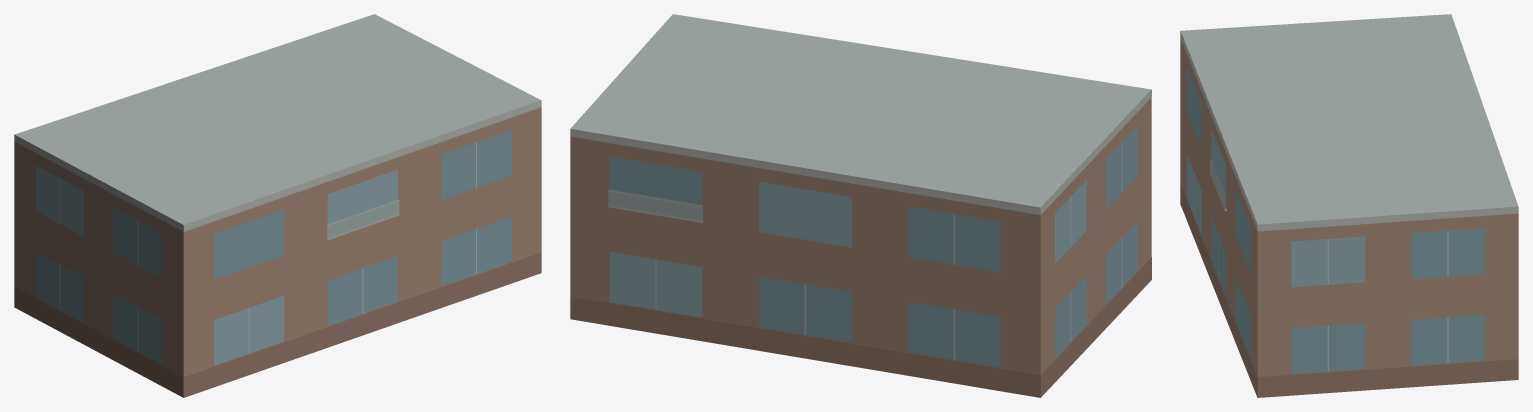
The model's file is survey-upis-32800098.glb.
The picture shows the model from 3 angles, left to right: view 1: azimuth 30°, elevation 25°; view 2: azimuth 150°, elevation 25°; view 3: azimuth 270°, elevation 25°; orthographic projection. The views are drawn at different scales.
Parts seen in each view (by area): view 1: survey-upis-32800098.tmp; view 2: survey-upis-32800098.tmp; view 3: survey-upis-32800098.tmp.
Part boxes in pixels (x1,y1,x2,y2): survey-upis-32800098.tmp: (14, 14, 541, 397); survey-upis-32800098.tmp: (570, 14, 1151, 397); survey-upis-32800098.tmp: (1180, 14, 1518, 397).
Bounding box in the file's own units: 15.92 × 6.1 × 10.8.
